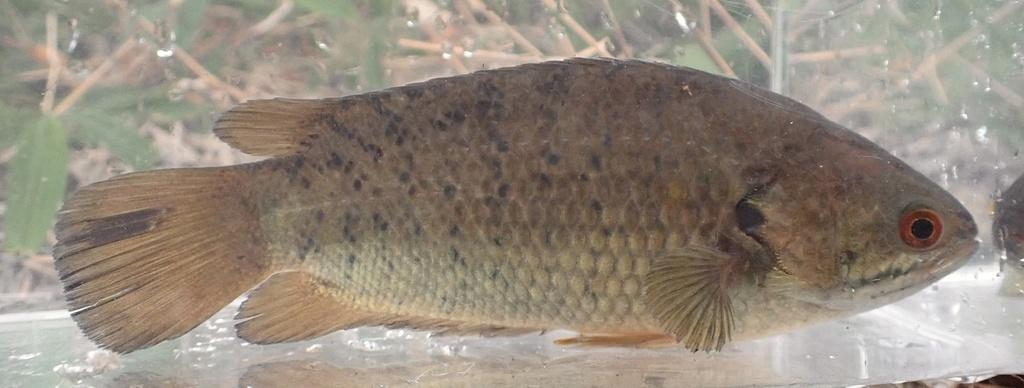Climbing Perch: (52, 51, 979, 350)
